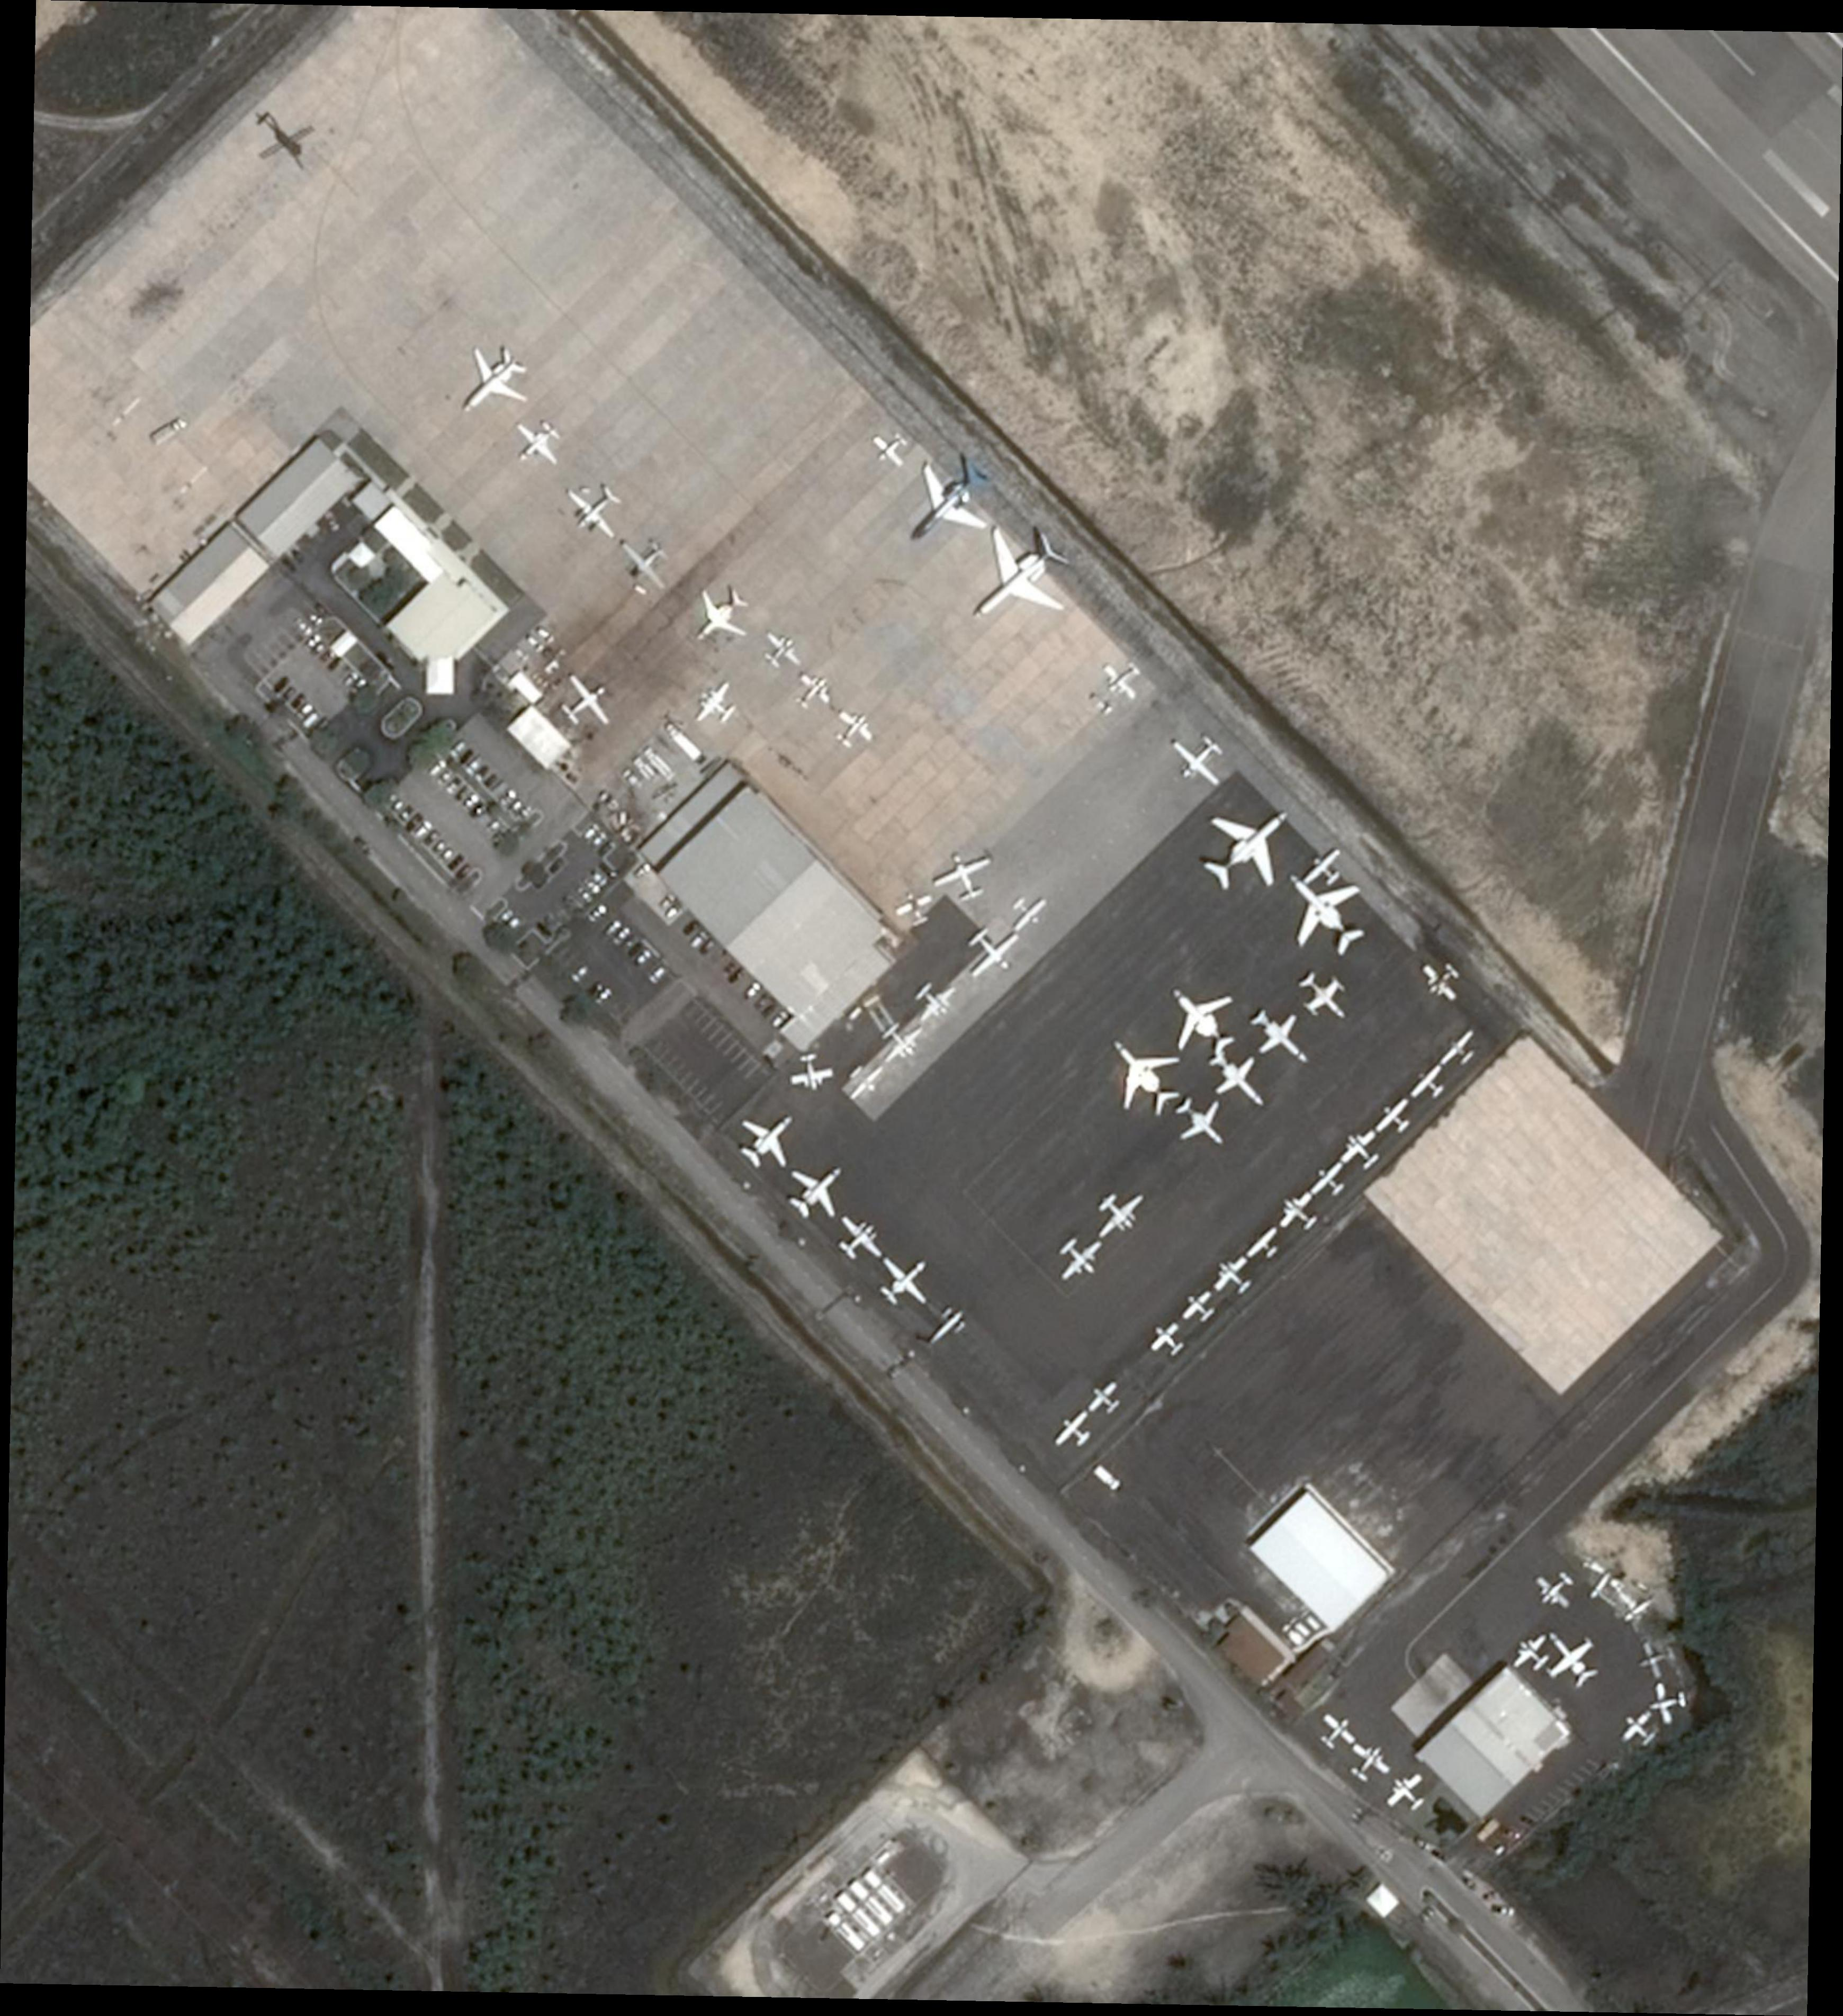plane: (942, 506, 1093, 659), (882, 437, 1012, 572), (1184, 780, 1312, 911), (1261, 850, 1384, 973), (1088, 1019, 1198, 1133), (1147, 966, 1253, 1071), (439, 335, 543, 436), (675, 574, 762, 662), (727, 1094, 810, 1182), (775, 1148, 859, 1233), (1239, 997, 1323, 1080), (1198, 1040, 1281, 1122), (1530, 1616, 1611, 1698), (864, 1238, 943, 1321), (1163, 1085, 1240, 1161), (559, 471, 634, 548), (1161, 724, 1237, 801), (550, 664, 624, 741), (958, 915, 1031, 990), (610, 525, 683, 599), (1082, 1178, 1156, 1249), (1290, 961, 1360, 1033), (502, 409, 571, 479), (926, 845, 998, 908), (1047, 1226, 1112, 1292), (828, 1208, 889, 1271), (870, 1013, 931, 1071), (914, 1300, 975, 1357), (687, 674, 745, 734), (1093, 652, 1151, 709), (1332, 1122, 1388, 1180), (752, 623, 810, 680), (1270, 1184, 1326, 1240), (826, 701, 882, 757), (1377, 1765, 1434, 1821), (907, 973, 963, 1029), (1339, 1735, 1397, 1789), (1205, 1249, 1260, 1305), (1413, 954, 1469, 1008), (1529, 1561, 1581, 1619), (1295, 843, 1351, 896), (836, 1054, 893, 1106), (1506, 1626, 1558, 1681), (785, 666, 840, 718), (1047, 1405, 1100, 1458), (1367, 1092, 1420, 1145), (1000, 887, 1052, 940), (1434, 1024, 1485, 1076), (1402, 1059, 1453, 1110), (864, 423, 915, 474), (1305, 1156, 1355, 1208), (1615, 1703, 1664, 1756), (1311, 1707, 1362, 1756), (1632, 1635, 1680, 1682), (1081, 1375, 1128, 1422), (889, 887, 940, 931), (1144, 1317, 1189, 1364), (1175, 1284, 1221, 1331), (1646, 1679, 1690, 1726), (785, 1052, 836, 1092), (1244, 1224, 1286, 1270)
